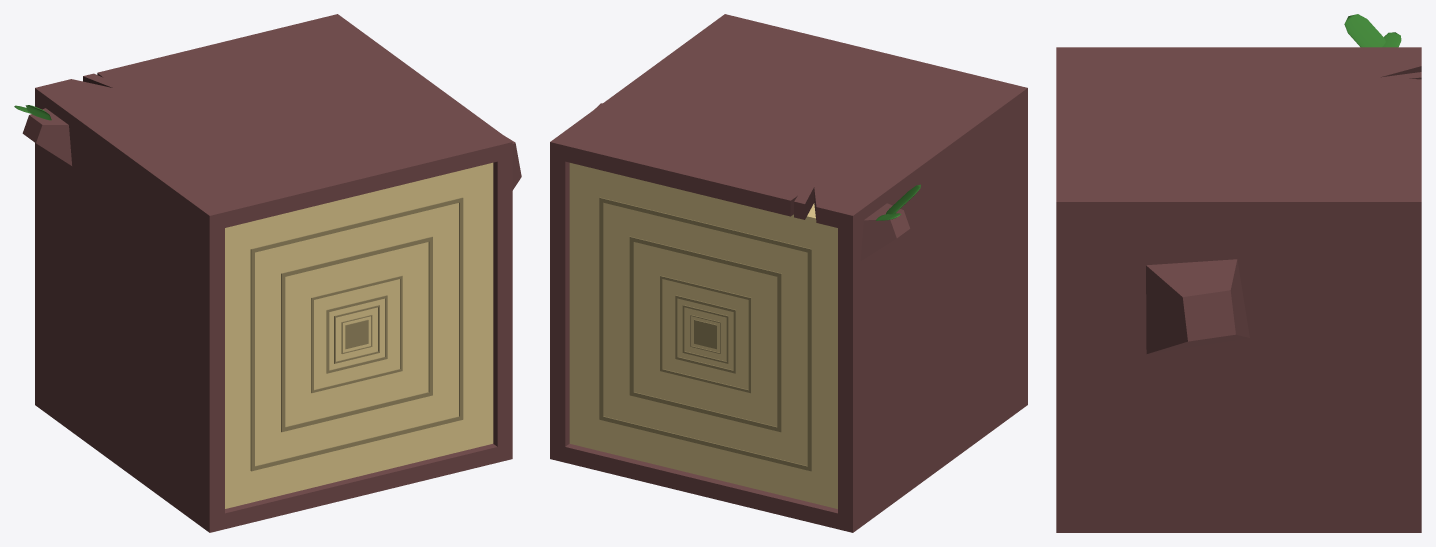
Rendered from log(leap).fbx.
The picture shows the model from 3 angles, left to right: view 1: azimuth 30°, elevation 25°; view 2: azimuth 150°, elevation 25°; view 3: azimuth 270°, elevation 25°; orthographic projection. The views are drawn at different scales.
Visible parts, largest first — view 1: 큐브_2_8, 큐브, 큐브_1_7, 큐브_1_6, 큐브_1_8, 큐브_2, 큐브_1_5, 큐브_1_4, 큐브_1; view 2: 큐브_2_8, 큐브, 큐브_1_7, 큐브_1_6, 큐브_1_8, 큐브_2, 큐브_1_5, 큐브_1_4, 큐브_1; view 3: 큐브_2_8, 큐브_3, 캡슐.
Boxes of the visible parts, x1,y1,x2,y2 form: 큐브_2_8: (35,14,512,532); 큐브: (225,162,493,508); 큐브_1_7: (250,197,463,471); 큐브_1_6: (281,236,432,432); 큐브_1_8: (225,161,497,513); 큐브_2: (22,108,71,165); 큐브_1_5: (311,275,402,392); 큐브_1_4: (326,295,387,373); 큐브_1: (345,319,368,348); 큐브_2_8: (550,14,1027,532); 큐브: (569,163,837,508); 큐브_1_7: (599,197,811,471); 큐브_1_6: (629,236,781,432); 큐브_1_8: (565,161,837,513); 큐브_2: (860,203,909,260); 큐브_1_5: (660,275,751,393); 큐브_1_4: (675,295,736,373); 큐브_1: (694,319,717,349); 큐브_2_8: (1056,47,1421,532); 큐브_3: (1146,259,1249,354); 캡슐: (1344,14,1385,47).
Bounding box in the file's own units: 272 × 209 × 200.
